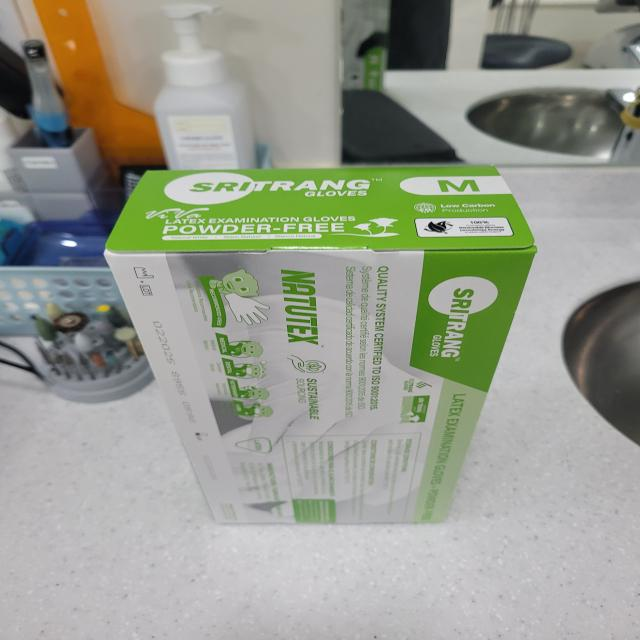glove: (111, 161, 525, 533)
